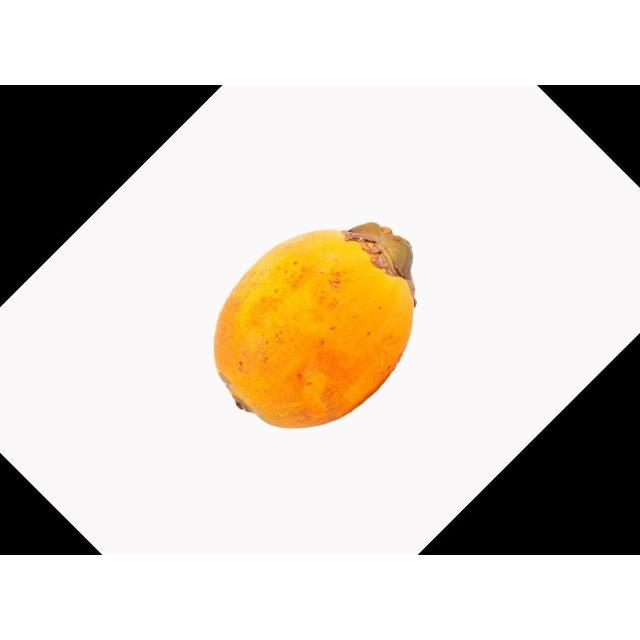good: (212, 223, 417, 432)
